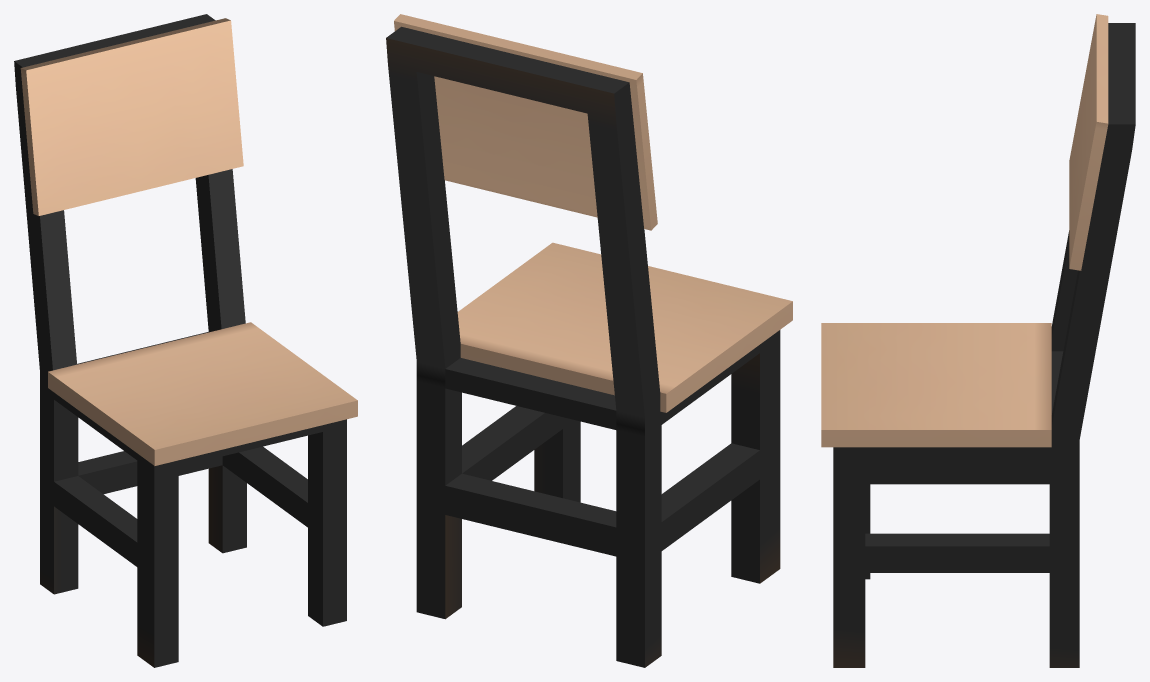
File: SM_Props_Cafe_16.fbx
3 views of the same model, side by side, from view 1: azimuth 30°, elevation 25°; view 2: azimuth 150°, elevation 25°; view 3: azimuth 270°, elevation 25° (orthographic). The views are drawn at different scales.
Visible parts, largest first — view 1: SM_Props_Cafe_16; view 2: SM_Props_Cafe_16; view 3: SM_Props_Cafe_16.
Part boxes in pixels (bbox=[...]): SM_Props_Cafe_16: bbox=[14, 14, 357, 667]; SM_Props_Cafe_16: bbox=[386, 14, 792, 667]; SM_Props_Cafe_16: bbox=[821, 14, 1135, 667].
Bounding box in the file's own units: 50.11 × 119 × 61.81.
